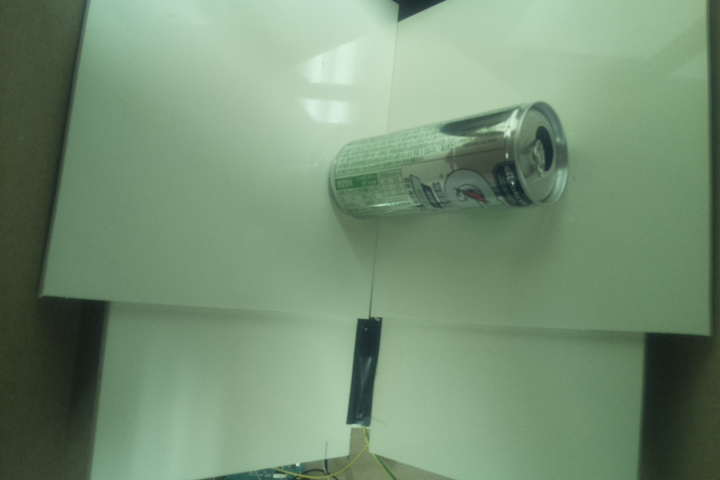can: (327, 99, 571, 221)
